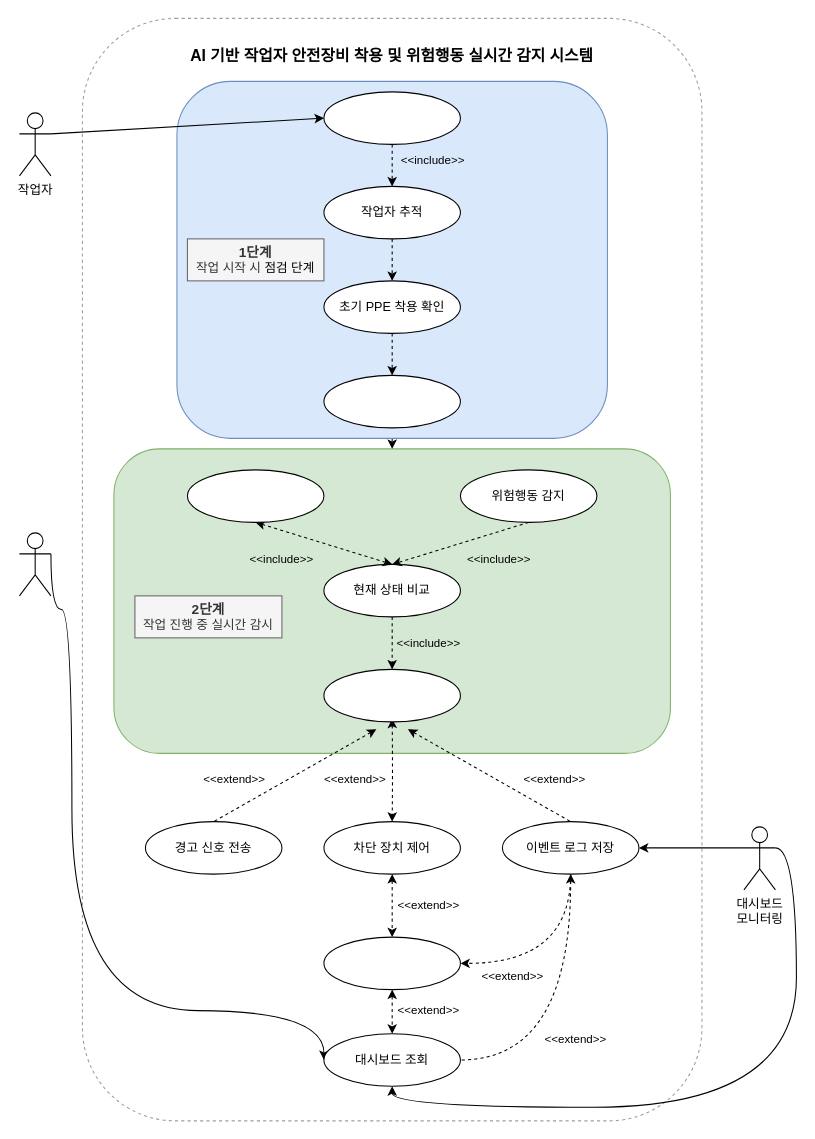
The diagram is 815 pixels wide and 1139 high, and some of its shapes have lost their labels. The shapes that lost their labels are listed below. From the top down, each one's centre as x and y in pixels, then its label:
the point at 391,117: 실시간 영상 입력
the point at 391,401: 초기 상태 저장
the point at 255,495: PPE 착용 상태 감지
the point at 34,564: 관리자
the point at 391,695: 이상 여부 판단
the point at 391,963: 위반 이미지 저장
